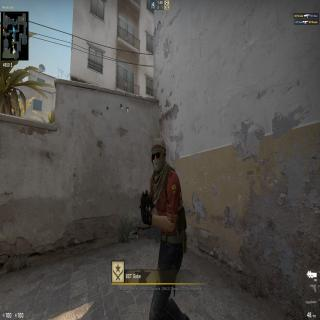T-Head: (150, 136, 167, 178)
